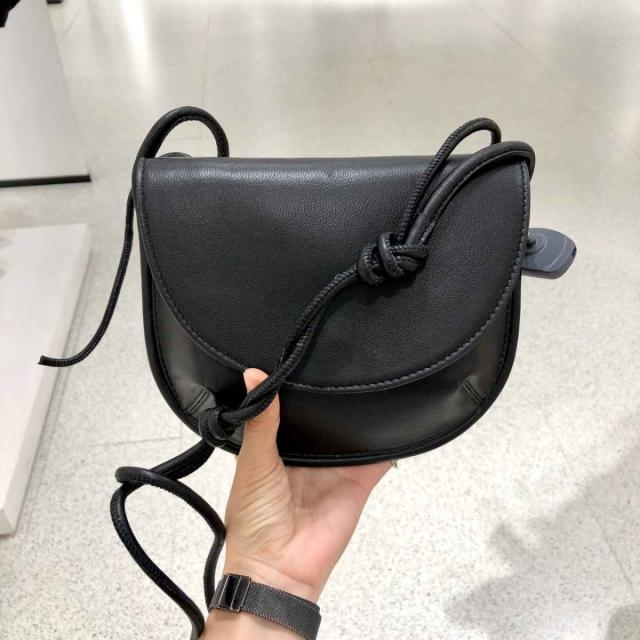Handbag: (108, 113, 555, 468)
